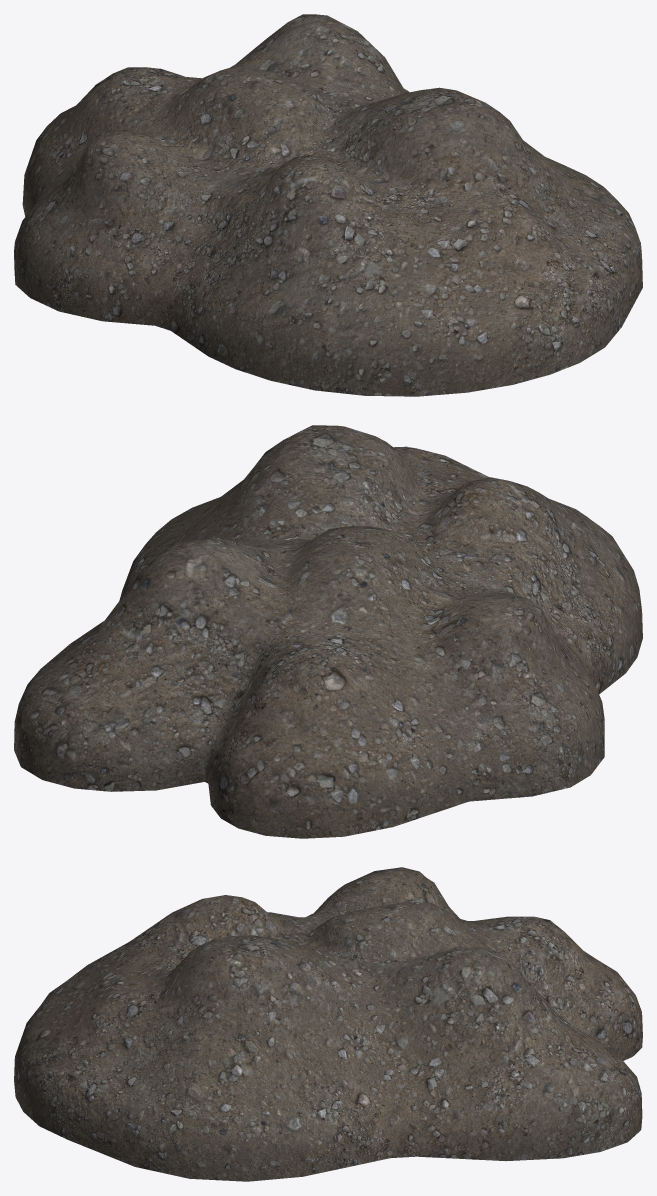
The model's file is cave_floor_bumps_03.dae.
3 renders of one model, top to bottom at view 1: azimuth 30°, elevation 25°; view 2: azimuth 150°, elevation 25°; view 3: azimuth 270°, elevation 25°, orthographic. The views are drawn at different scales.
Parts seen in each view (by area): view 1: 03; view 2: 03; view 3: 03.
Boxes of the visible parts, box(x1,y1,x2,y2) form: 03: box(14, 14, 642, 396); 03: box(14, 425, 642, 838); 03: box(14, 867, 642, 1181).
Bounding box in the file's own units: 1.96 × 0.6645 × 2.33.
